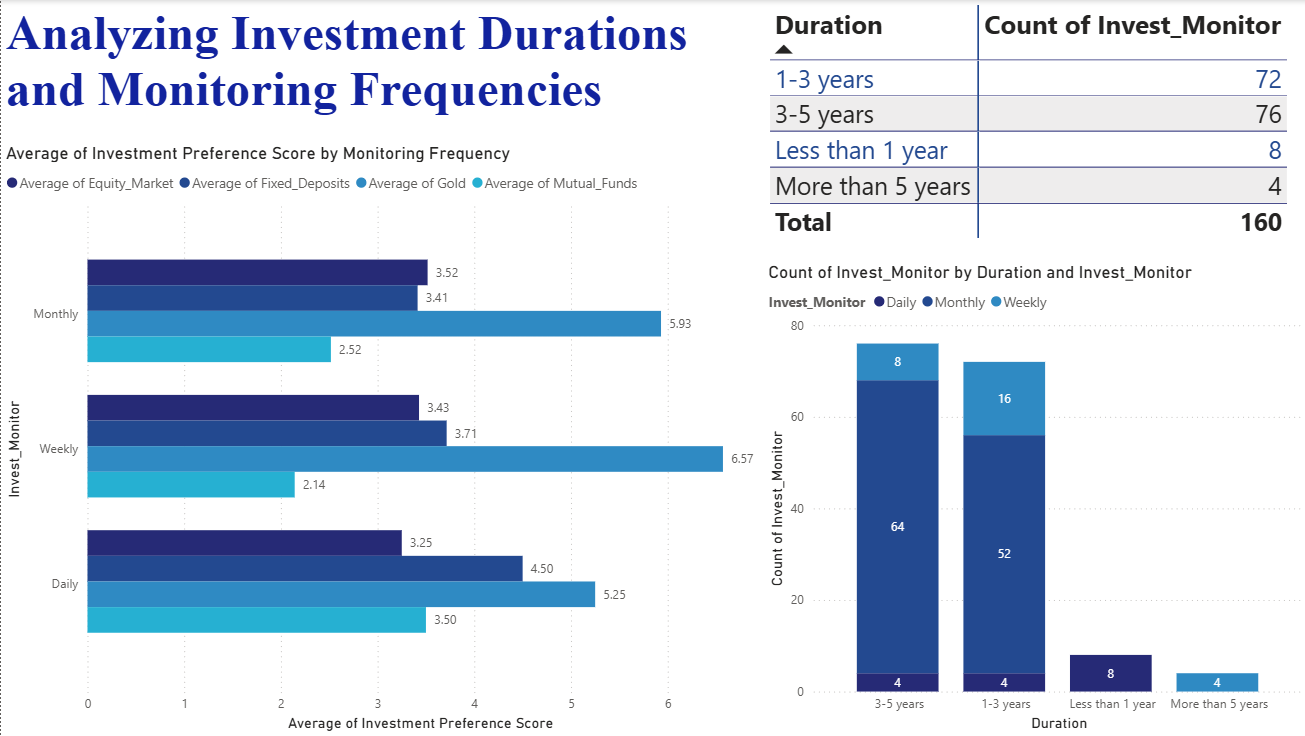

Layout of this report page (visuals, bound fields, positions):
{"tool":"powerbi","page":{"name":"Task 4 Visuals","canvas":[1280,720],"ordinal":3},"visuals":[{"type":"tableEx","fields":{"Values":["Data_set 2.Duration","CountNonNull(Data_set 2.Invest_Monitor)"]},"box":[745.9,0,534.4,255.6],"z":0},{"type":"columnChart","fields":{"Category":["Data_set 2.Duration"],"Series":["Data_set 2.Invest_Monitor"],"Y":["CountNonNull(Data_set 2.Invest_Monitor)"]},"box":[745.9,255.6,534.4,464.7],"z":1000},{"type":"clusteredBarChart","title":"Average of Investment Preference Score by Monitoring Frequency","fields":{"Category":["Data_set 2.Invest_Monitor"],"Y":["Avg(Data_set 2.Equity_Market)","Avg(Data_set 2.Fixed_Deposits)","Avg(Data_set 2.Gold)","Avg(Data_set 2.Mutual_Funds)"]},"box":[0,139.4,745.9,580.8],"z":2000},{"type":"textbox","box":[0,0,745.9,128.4],"z":3000}]}

Visuals, with their boxes in screenshot pixels (x1, y1, x2, y2), scaled from the page's 1280x720 canvas onto the 1305x736 screenshot:
tableEx - Data_set 2.Duration x CountNonNull(Data_set 2.Invest_Monitor): locate(760, 0, 1304, 261)
columnChart - Data_set 2.Duration x Data_set 2.Invest_Monitor: locate(760, 261, 1304, 735)
"Average of Investment Preference Score by Monitoring Frequency" clusteredBarChart: locate(0, 142, 760, 735)
textbox: locate(0, 0, 760, 131)
